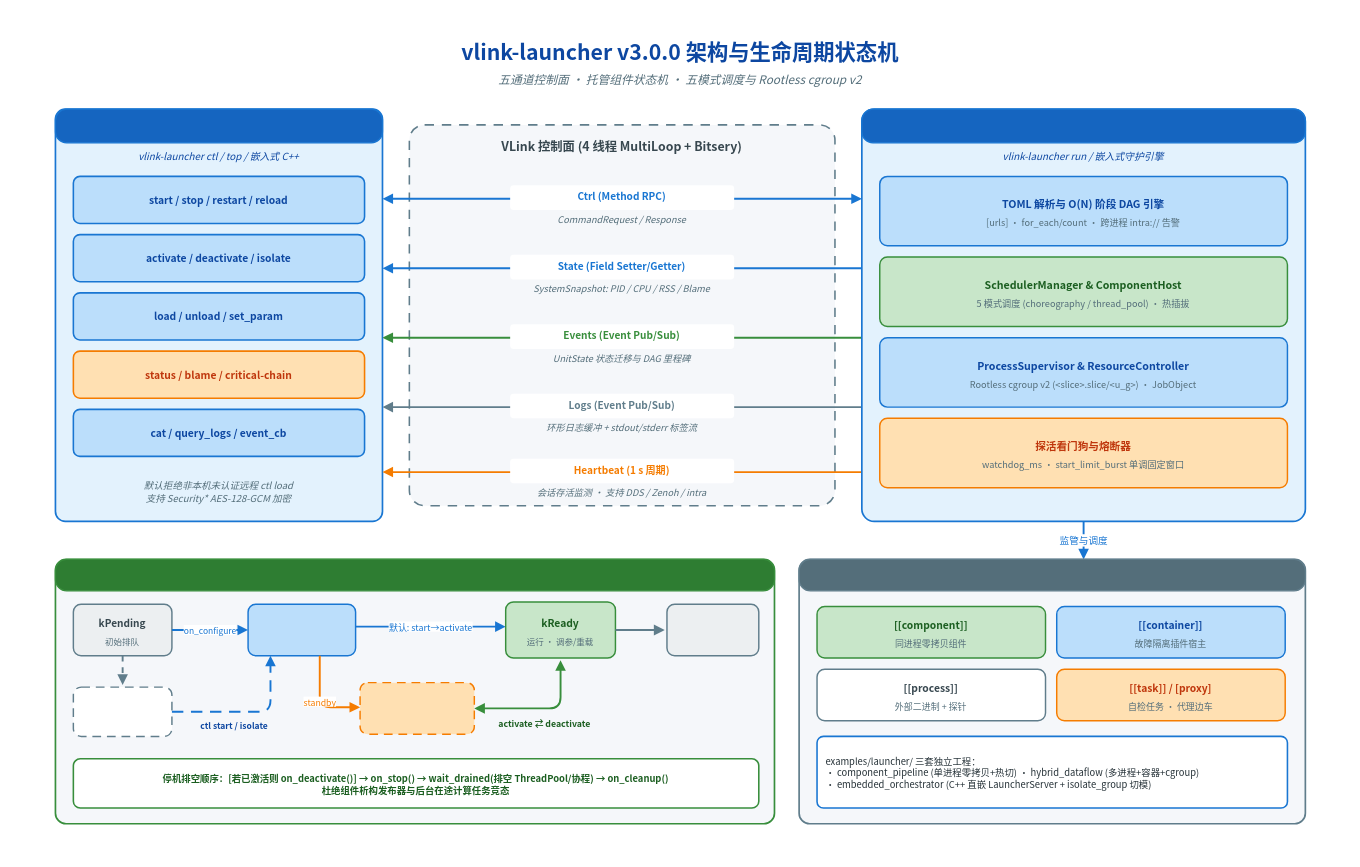
Some shapes in this 1360 by 867 pixel diagram are drawn without their labels. Each missing label, with the box of its shape:
kInactive 暖备 · 定时暂停: (359, 681, 475, 734)
kSkipped autostart=false: (72, 686, 172, 737)
kStarting 预热加载: (247, 603, 356, 656)
kStopped 逆拓扑停: (666, 603, 759, 656)
LauncherAPI & CLI / TUI: (54, 108, 383, 143)
LauncherServer 编排引擎: (861, 108, 1305, 143)
五大载体 (UnitType) 与三套参考工程: (798, 558, 1305, 591)
托管组件冷启与暖备切换流转 (UnitState 完整含 10 态，聚焦热切路径): (54, 558, 775, 591)
